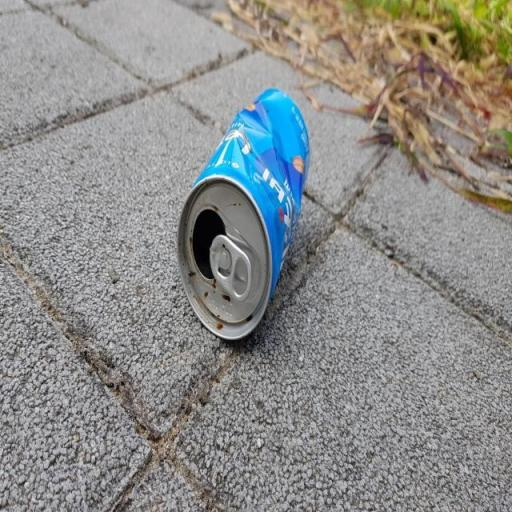metal: (164, 74, 326, 374)
